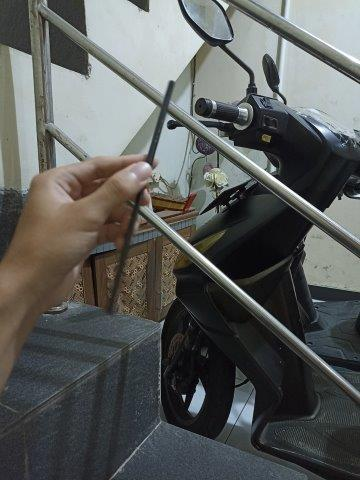sedotan: (107, 81, 176, 314)
